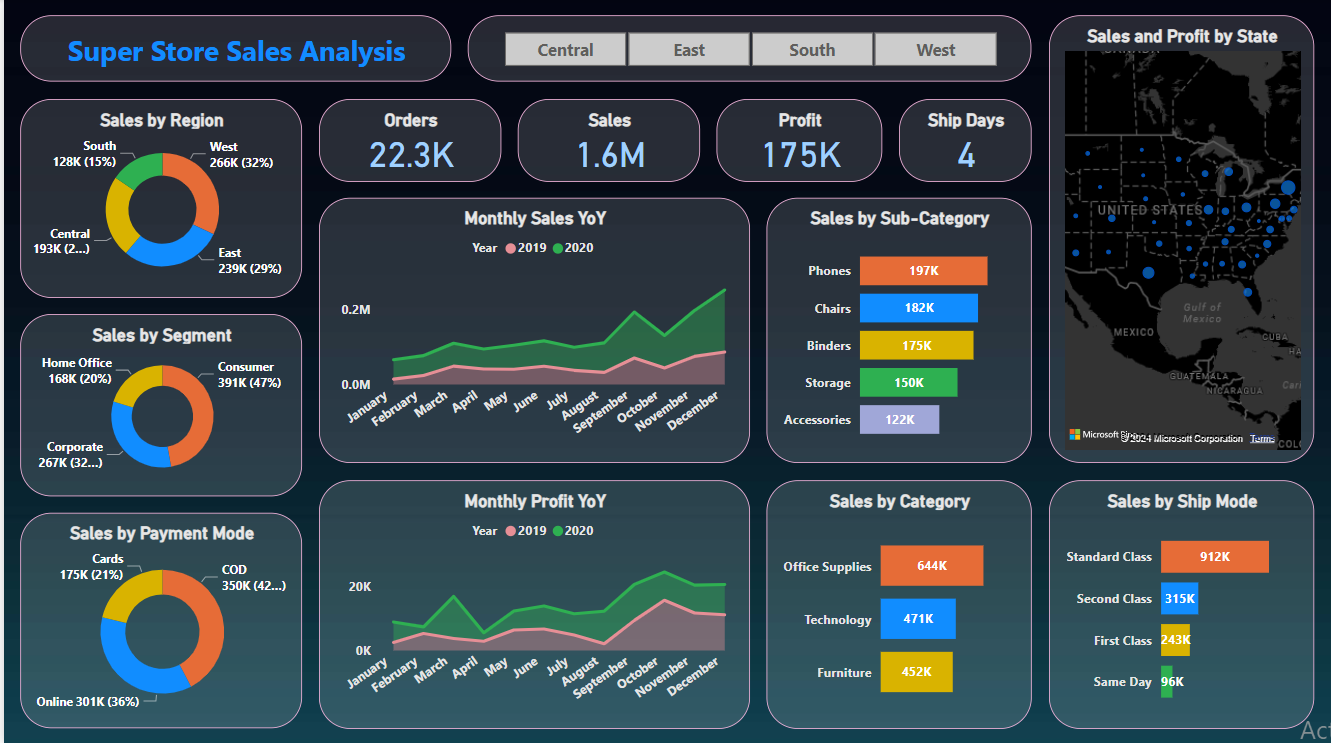

This screenshot's page, from the dashboard's own definition file:
{"tool":"powerbi","page":{"name":"Super Store Sales Dashboard","canvas":[1280,720],"ordinal":0},"visuals":[{"type":"clusteredBarChart","title":"Sales by Category","fields":{"Y":["Sum(SuperStore_Sales_Dataset.Sales)"],"Category":["SuperStore_Sales_Dataset.Category"]},"box":[736,464,256,240],"z":0},{"type":"clusteredBarChart","title":"Sales by Sub-Category","fields":{"Y":["Sum(SuperStore_Sales_Dataset.Sales)"],"Category":["SuperStore_Sales_Dataset.Sub-Category"]},"box":[736,192,256,256],"z":1000},{"type":"donutChart","title":"Sales by Segment","fields":{"Category":["SuperStore_Sales_Dataset.Segment"],"Y":["Sum(SuperStore_Sales_Dataset.Sales)"]},"box":[16,304,272,176],"z":2000},{"type":"clusteredBarChart","title":"Sales by Ship Mode","fields":{"Y":["Sum(SuperStore_Sales_Dataset.Sales)"],"Category":["SuperStore_Sales_Dataset.Ship Mode"]},"box":[1008,464,256,240],"z":3000},{"type":"stackedAreaChart","title":"Monthly Sales YoY","fields":{"Y":["Sum(SuperStore_Sales_Dataset.Sales)"],"Category":["SuperStore_Sales_Dataset.Ship Date.Variation.Date Hierarchy.Month"],"Series":["SuperStore_Sales_Dataset.Ship Date.Variation.Date Hierarchy.Year"]},"box":[304,192,416,256],"z":4000},{"type":"stackedAreaChart","title":"Monthly Profit YoY","fields":{"Category":["SuperStore_Sales_Dataset.Ship Date.Variation.Date Hierarchy.Month"],"Series":["SuperStore_Sales_Dataset.Ship Date.Variation.Date Hierarchy.Year"],"Y":["Sum(SuperStore_Sales_Dataset.Profit)"]},"box":[304,464,416,240],"z":5000},{"type":"map","title":"Sales and Profit by State","fields":{"Size":["Sum(SuperStore_Sales_Dataset.Sales)"],"Category":["SuperStore_Sales_Dataset.State"]},"box":[1008,16,256,432],"z":6000},{"type":"donutChart","title":"Sales by Region","fields":{"Category":["SuperStore_Sales_Dataset.Region"],"Y":["Sum(SuperStore_Sales_Dataset.Sales)"]},"box":[16,96,272,192],"z":7000},{"type":"donutChart","title":"Sales by Payment Mode","fields":{"Y":["Sum(SuperStore_Sales_Dataset.Sales)"],"Category":["SuperStore_Sales_Dataset.Payment Mode"]},"box":[16,496,272,208],"z":8000},{"type":"slicer","fields":{"Values":["SuperStore_Sales_Dataset.Region"]},"box":[448,16,544,64],"z":9000},{"type":"textbox","box":[16,16,416,64],"z":10000},{"type":"card","title":"Sales","fields":{"Values":["Sum(SuperStore_Sales_Dataset.Sales)"]},"box":[496,96,176,80],"z":11000},{"type":"card","title":"Profit","fields":{"Values":["Sum(SuperStore_Sales_Dataset.Profit)"]},"box":[688,96,160,80],"z":12000},{"type":"card","title":"Ship Days","fields":{"Values":["Avg(SuperStore_Sales_Dataset.Avg Ship Days)"]},"box":[864,96,128,80],"z":13000},{"type":"card","title":"Orders","fields":{"Values":["Sum(SuperStore_Sales_Dataset.Quantity)"]},"box":[304,96,176,80],"z":14000}]}

Visuals, with their boxes in screenshot pixels (x1, y1, x2, y2), scaled from the page's 1280x720 canvas onto the 1331x743 screenshot:
"Sales by Category" clusteredBarChart: select_region(765, 479, 1032, 726)
"Sales by Sub-Category" clusteredBarChart: select_region(765, 198, 1032, 462)
"Sales by Segment" donutChart: select_region(17, 314, 299, 495)
"Sales by Ship Mode" clusteredBarChart: select_region(1048, 479, 1314, 726)
"Monthly Sales YoY" stackedAreaChart: select_region(316, 198, 749, 462)
"Monthly Profit YoY" stackedAreaChart: select_region(316, 479, 749, 726)
"Sales and Profit by State" map: select_region(1048, 17, 1314, 462)
"Sales by Region" donutChart: select_region(17, 99, 299, 297)
"Sales by Payment Mode" donutChart: select_region(17, 512, 299, 726)
slicer - SuperStore_Sales_Dataset.Region: select_region(466, 17, 1032, 83)
textbox: select_region(17, 17, 449, 83)
"Sales" card: select_region(516, 99, 699, 182)
"Profit" card: select_region(715, 99, 882, 182)
"Ship Days" card: select_region(898, 99, 1032, 182)
"Orders" card: select_region(316, 99, 499, 182)
